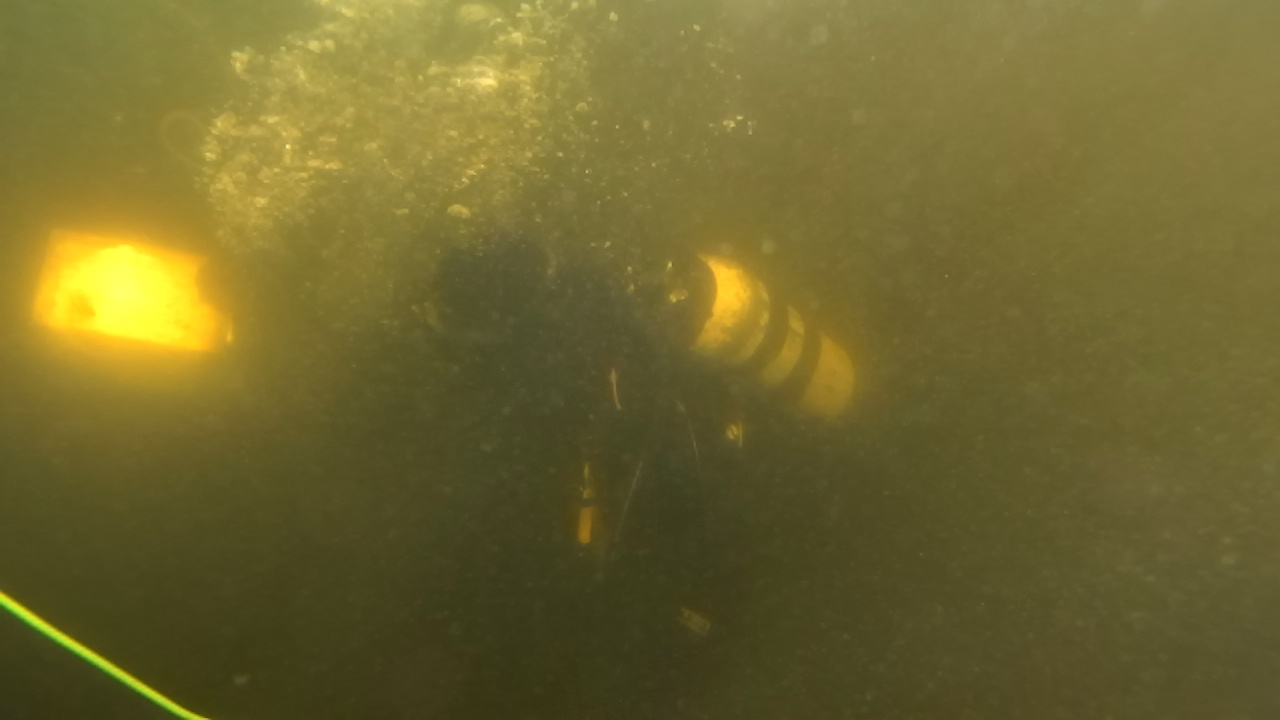Diver: (426, 212, 822, 662)
